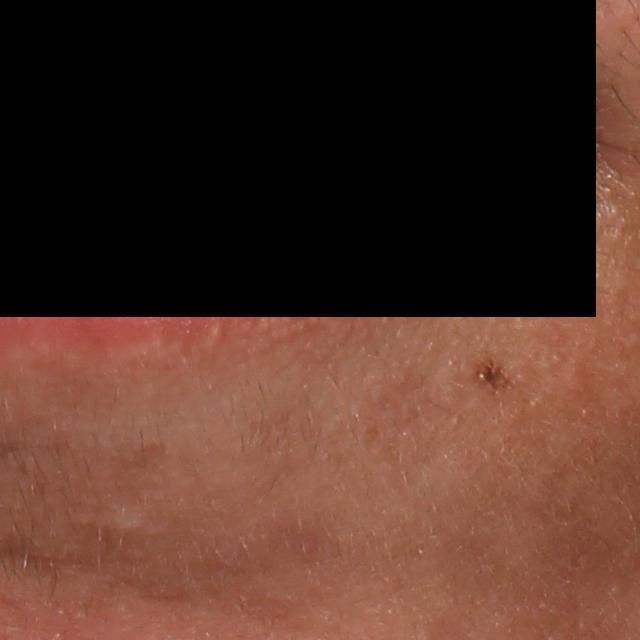hypertrophic_scar: (90, 494, 153, 535)
nevus: (473, 356, 514, 395)
